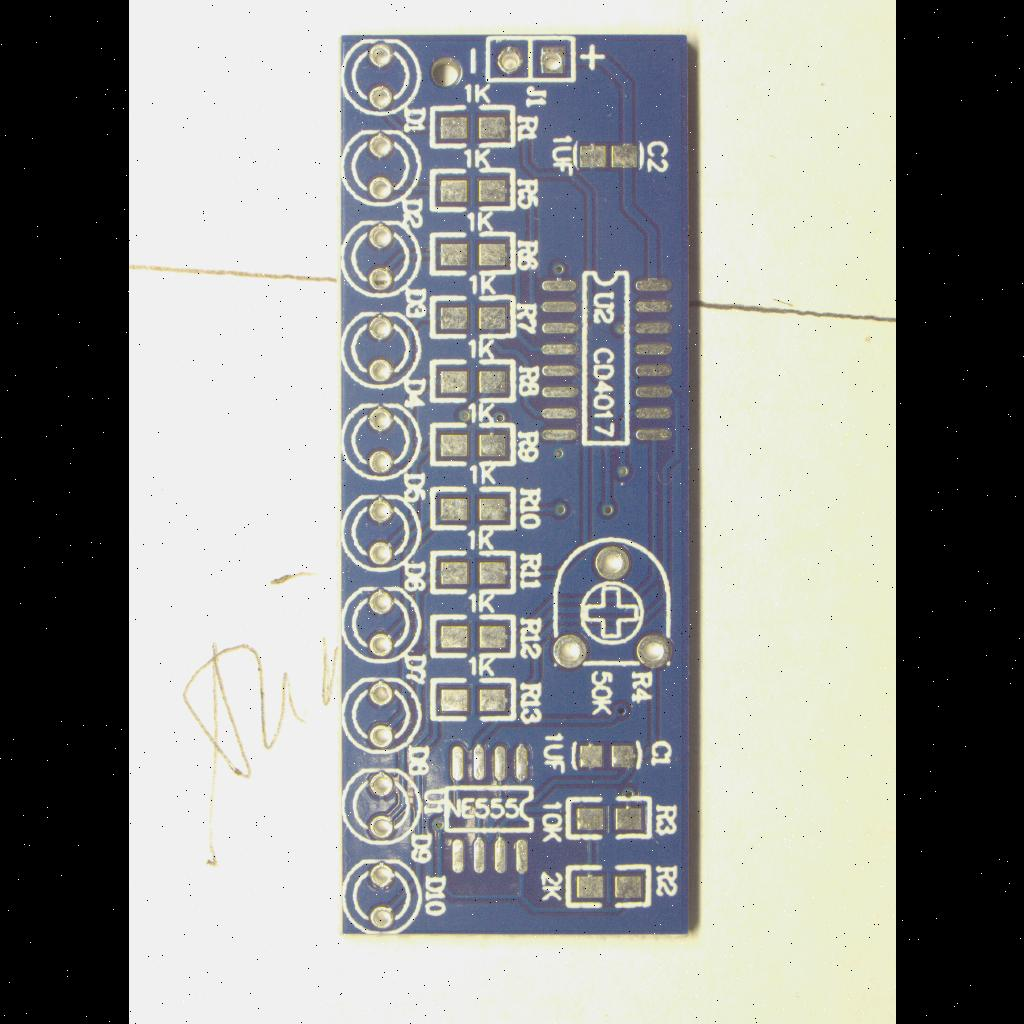NG: (526, 264, 682, 454), (437, 734, 543, 884), (561, 860, 655, 916), (561, 791, 655, 847), (426, 226, 520, 282), (426, 416, 520, 472), (427, 354, 519, 410), (427, 608, 519, 664), (426, 290, 520, 344), (428, 483, 520, 537), (428, 162, 518, 216), (428, 674, 520, 726), (428, 546, 520, 598), (562, 132, 650, 182), (565, 734, 647, 780), (432, 105, 514, 149)
